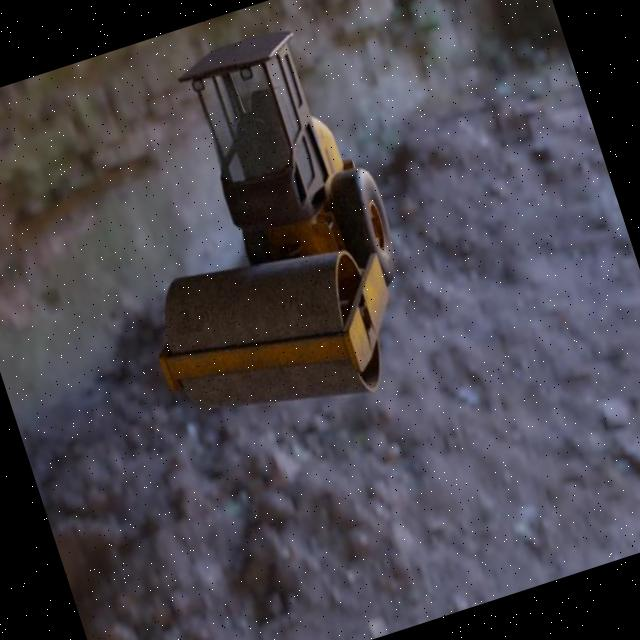Roller: (72, 13, 437, 452)
